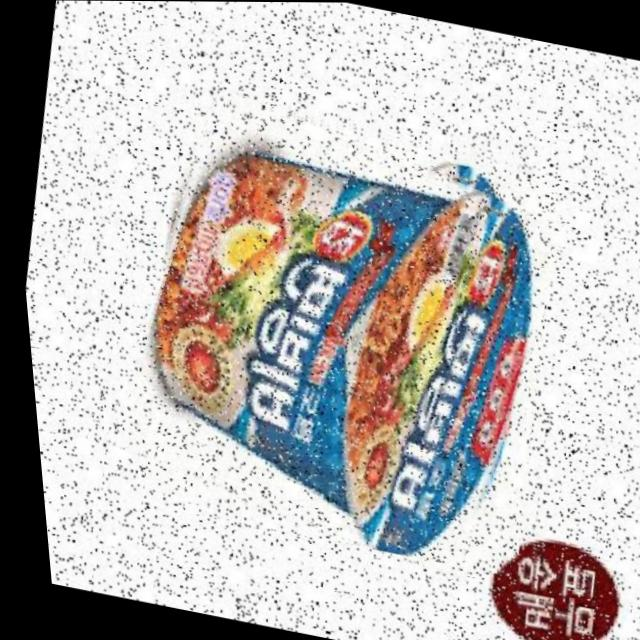Miscellaneous: (78, 83, 586, 577)
